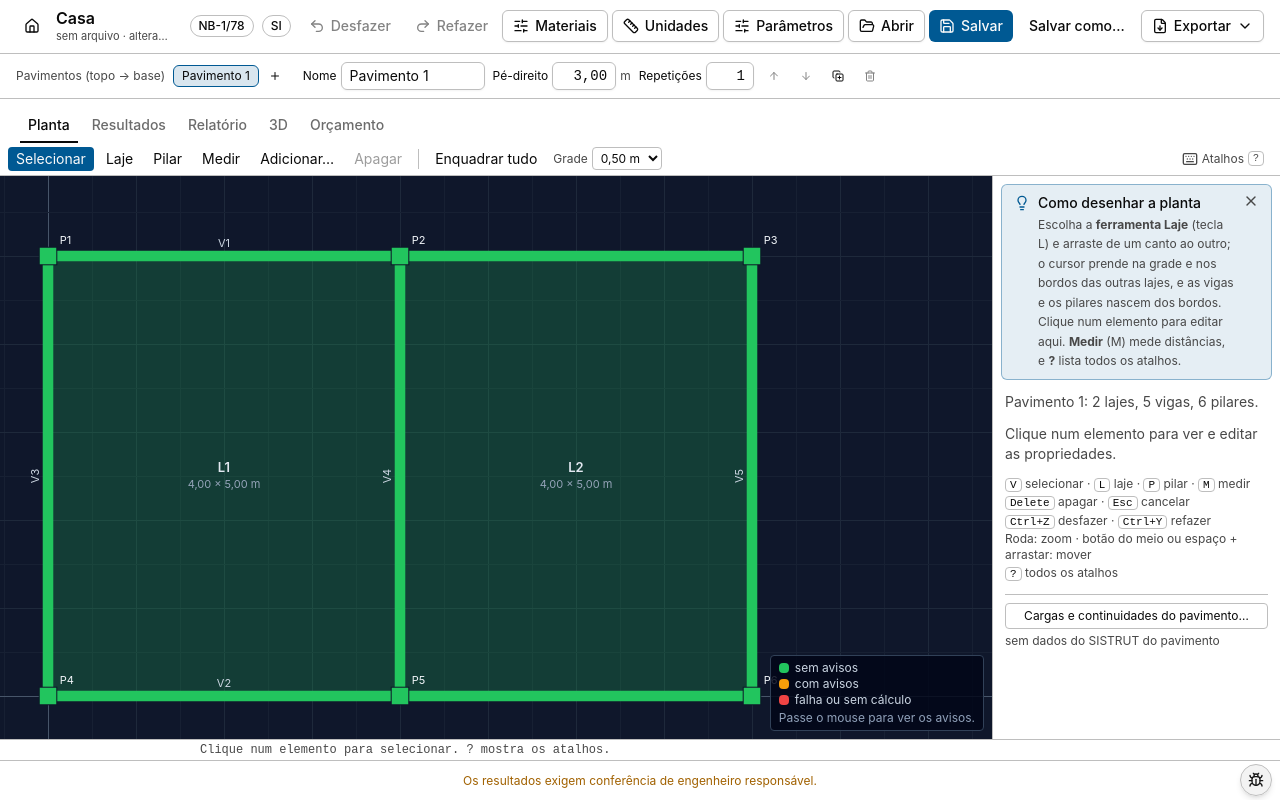
Test: diálogo de materiais: modo de cálculo fora da NB-1/78 › trocar a norma para NBR 6118 desabilita o switch e grava o modo que já estava salvo
Expected: the heading "Casa" is shown, [56,8,95,28]
Click the button "Materiais". click: (555, 26)
box: [502,10,608,42]
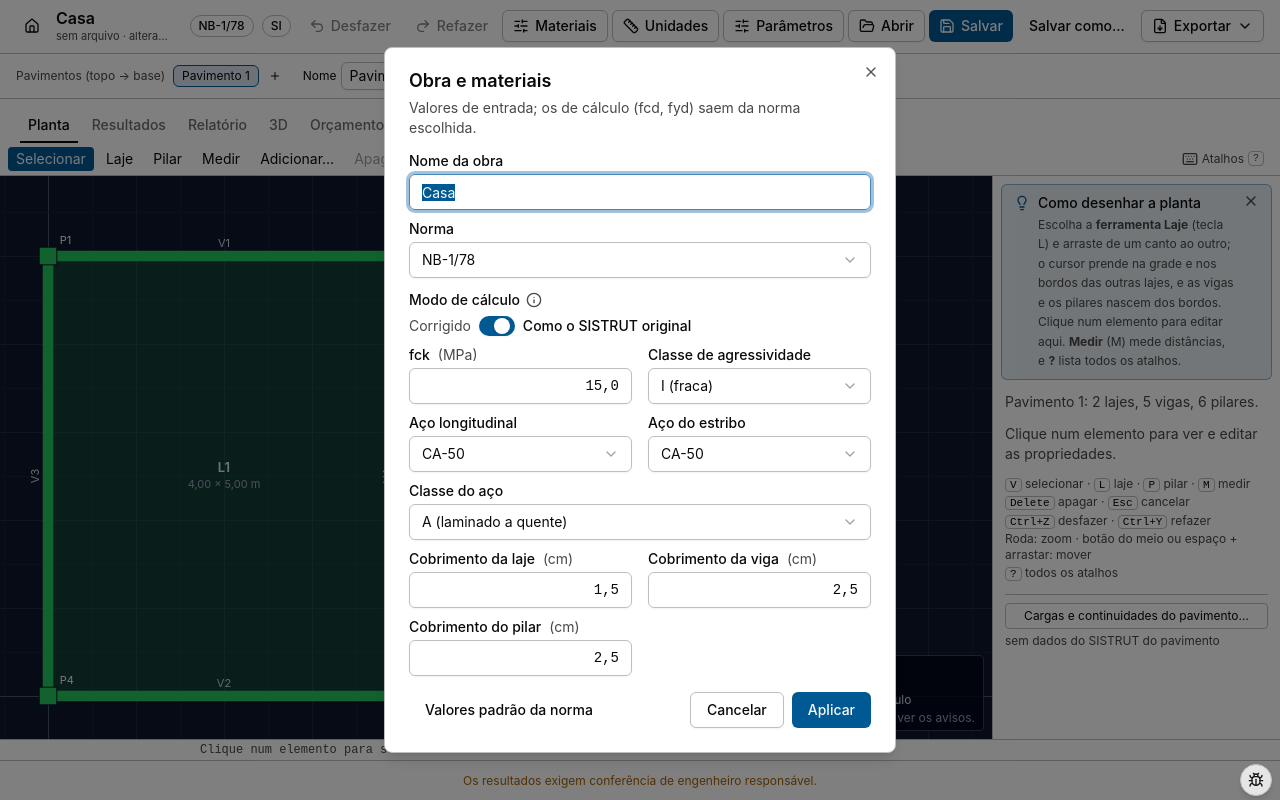
Expected: the switch named "Modo de cálculo" is enabled, [479,316,515,336]
Click the dropdown named "Norma". click: (449, 260)
box: [409,242,871,278]
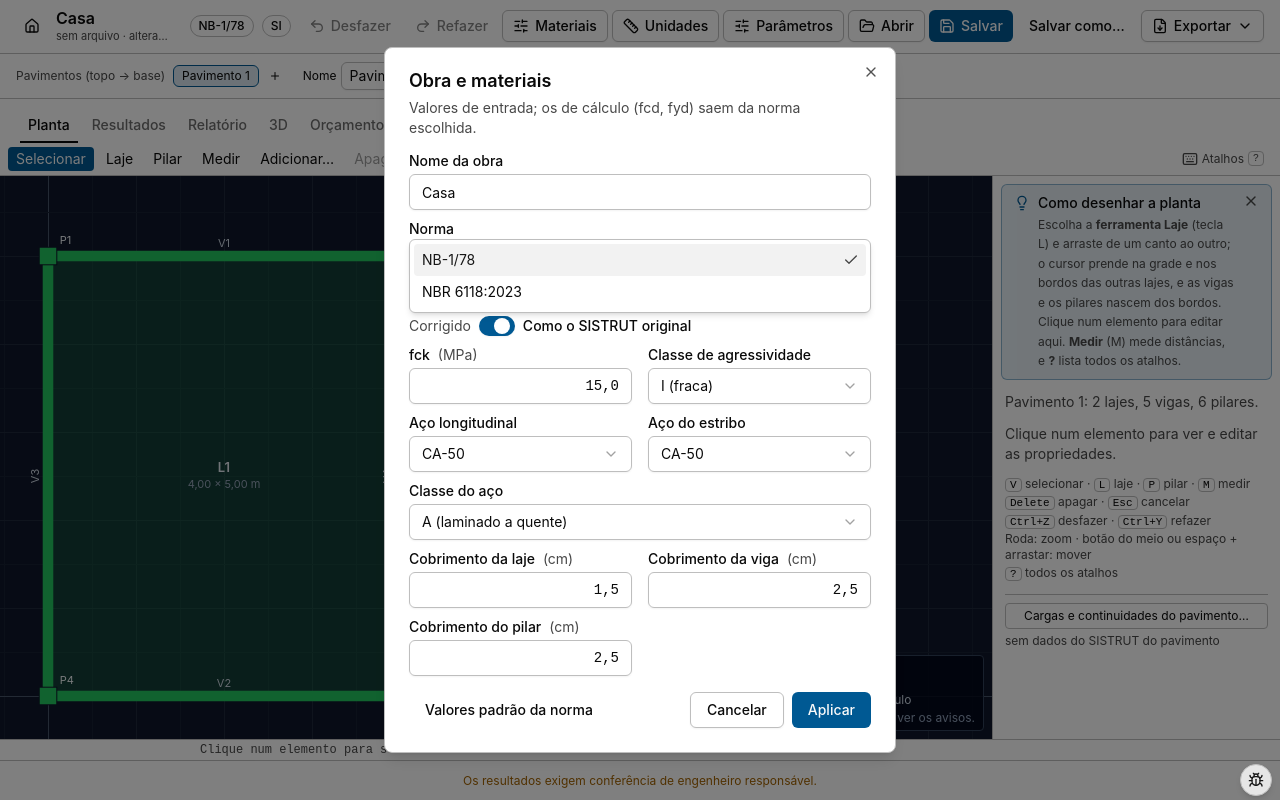
Click the option "NBR 6118:2023". click: (472, 292)
box: [422,283,522,300]
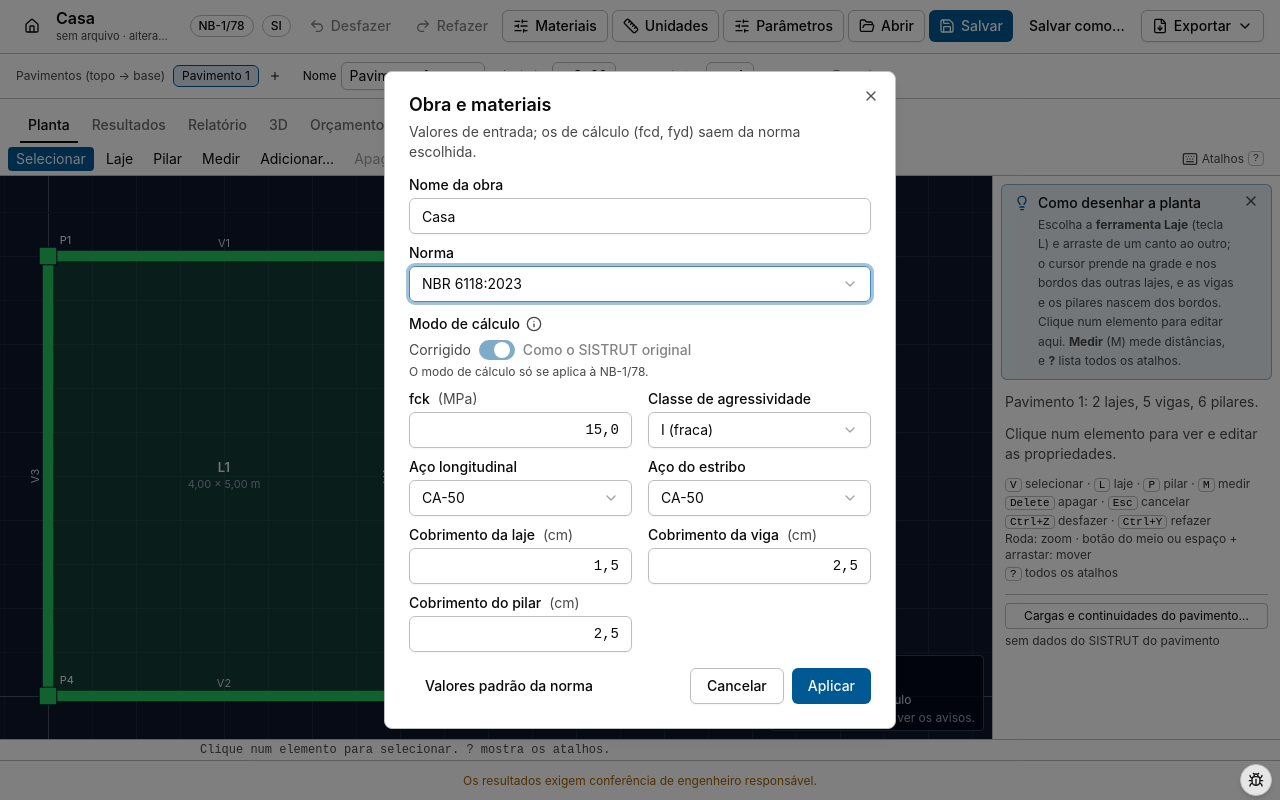
Expected: the switch named "Modo de cálculo" is disabled, [479,340,515,360]
Expected: the text "O modo de cálculo só se aplica à NB-1/78." is shown, [409,364,648,380]
Click the button "Aplicar". click: (831, 686)
box: [792,668,871,704]
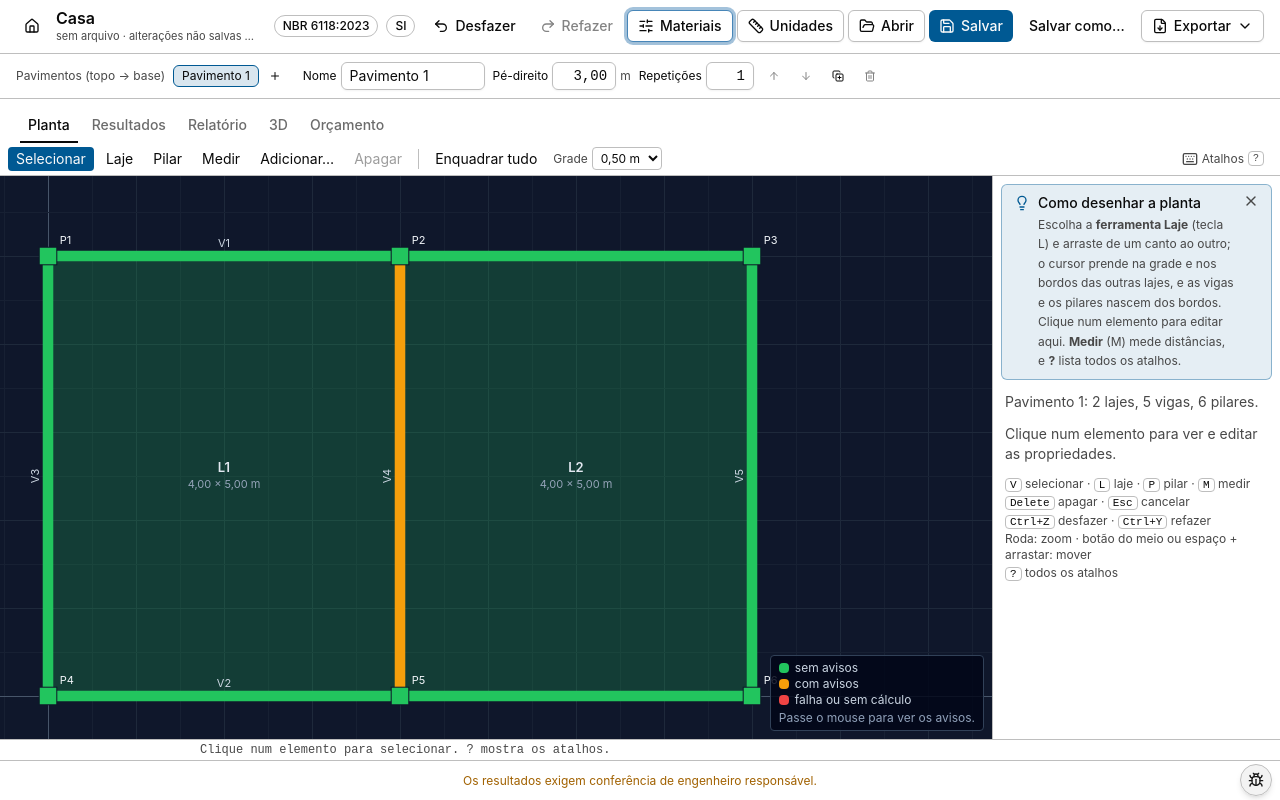
Expected: the dialog is gone
